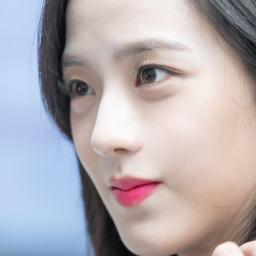face: (71, 0, 255, 256)
